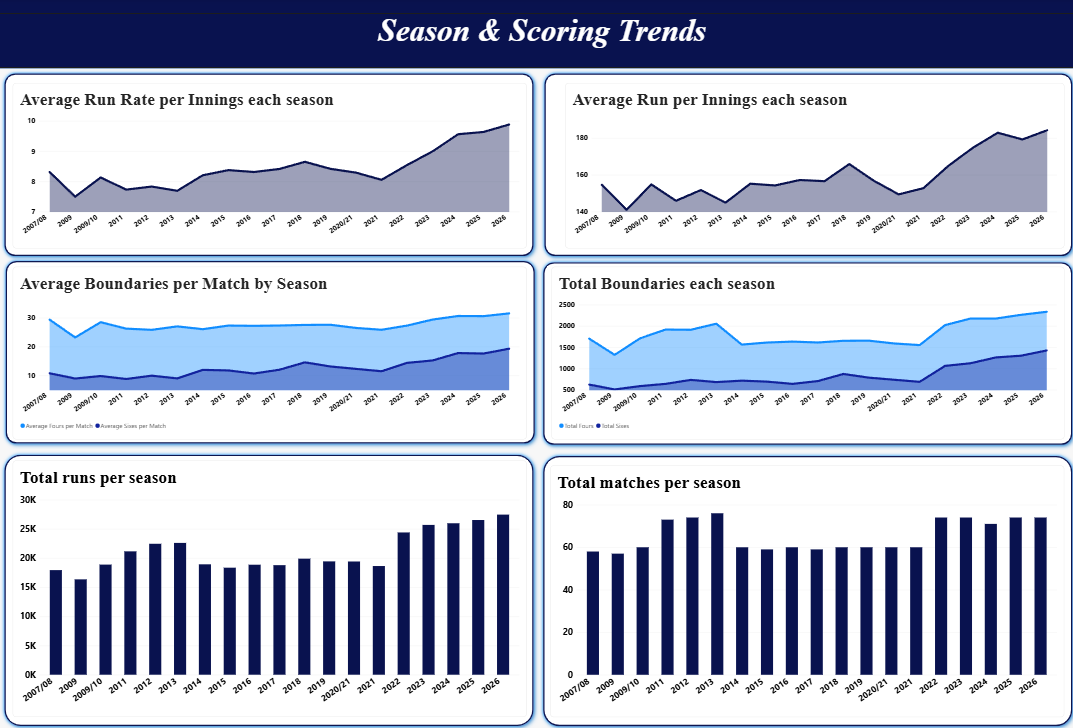

What the dashboard file says about the page in this screenshot:
{"tool":"powerbi","page":{"name":"Page 2","canvas":[2500,1700],"ordinal":1},"visuals":[{"type":"shape","box":[1248.6,1048.6,1251.4,651.4],"z":0},{"type":"shape","box":[0,1045.7,1251.4,654.3],"z":1000},{"type":"shape","box":[1248.6,600,1251.4,448.6],"z":2000},{"type":"shape","box":[0,0,2500,162.9],"z":3000},{"type":"shape","box":[2.9,597.1,1251.4,448.6],"z":4000},{"type":"textbox","box":[0,34.3,2500,128.6],"z":5000},{"type":"shape","box":[1251.4,162.9,1248.6,448.6],"z":6000},{"type":"lineChart","title":"Average Run per Innings each season","fields":{"Category":["public ipl_data.season"],"Y":["public ipl_data.Average Innings Score"]},"box":[1311.4,197.1,1157.1,382.9],"z":7000},{"type":"shape","box":[0,162.9,1251.4,448.6],"z":8000},{"type":"lineChart","title":"Average Run Rate per Innings each season","fields":{"Category":["public ipl_data.season"],"Y":["public ipl_data.Average Run Rate"]},"box":[31.4,197.1,1191.4,382.9],"z":9000},{"type":"lineChart","title":"Total Boundaries each season","fields":{"Category":["public ipl_data.season"],"Y":["public ipl_data.Total Fours","public ipl_data.Total Sixes"]},"box":[1280,622.9,1188.6,400],"z":10000},{"type":"lineChart","title":"Average Boundaries per Match by Season","fields":{"Category":["public ipl_data.season"],"Y":["public ipl_data.Average Fours per Match","public ipl_data.Average Sixes per Match"]},"box":[31.4,622.9,1191.4,400],"z":11000},{"type":"clusteredColumnChart","title":"Total runs per season","fields":{"Category":["public ipl_data.season"],"Y":["public ipl_data.Total_Runs"]},"box":[31.4,1071.4,1191.4,594.3],"z":12000},{"type":"clusteredColumnChart","title":"Total matches per season","fields":{"Category":["public ipl_data.season"],"Y":["public ipl_data.Total_Matches"]},"box":[1277.1,1082.9,1191.4,582.9],"z":13000}]}

Visuals, with their boxes in screenshot pixels (x1, y1, x2, y2), scaled from the page's 2500x1700 canvas onto the 1073x728 screenshot:
shape: 536 449 1072 727
shape: 0 448 537 727
shape: 536 257 1072 449
shape: 0 0 1072 70
shape: 1 256 538 448
textbox: 0 15 1072 70
shape: 537 70 1072 262
"Average Run per Innings each season" lineChart: 563 84 1059 248
shape: 0 70 537 262
"Average Run Rate per Innings each season" lineChart: 13 84 525 248
"Total Boundaries each season" lineChart: 549 267 1060 438
"Average Boundaries per Match by Season" lineChart: 13 267 525 438
"Total runs per season" clusteredColumnChart: 13 459 525 713
"Total matches per season" clusteredColumnChart: 548 464 1059 713
